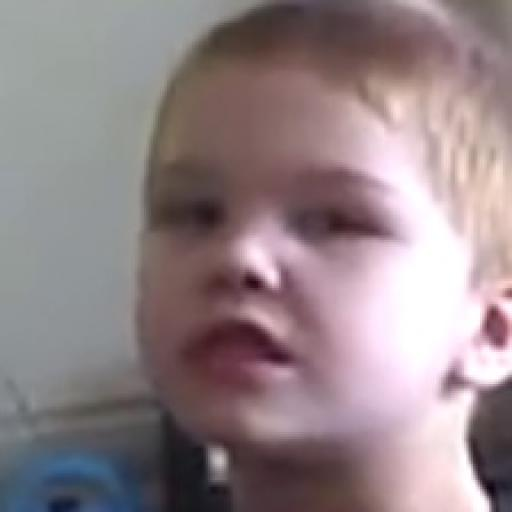Autism: (102, 35, 512, 478)
